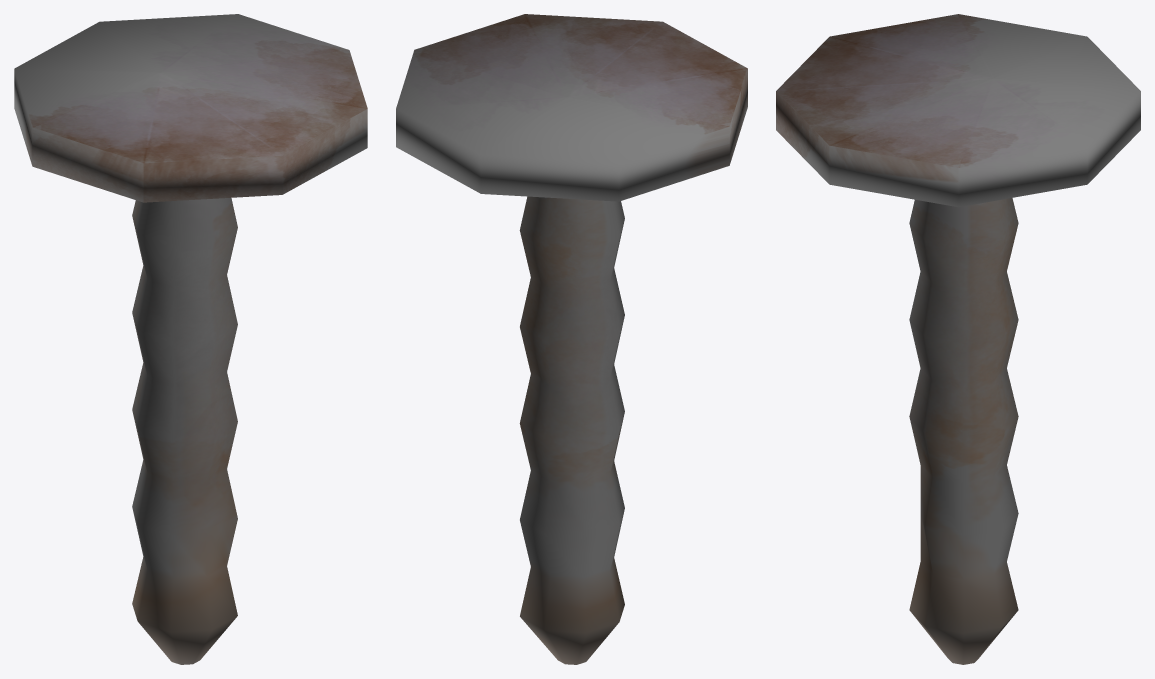
Rendered from Schraube_ Collectible .fbx.
3 renders of one model, left to right at view 1: azimuth 30°, elevation 25°; view 2: azimuth 150°, elevation 25°; view 3: azimuth 270°, elevation 25°, orthographic.
Visible parts, largest first — view 1: Cylinder; view 2: Cylinder; view 3: Cylinder.
Part boxes in pixels (x1=…): Cylinder: x1=14, y1=14, x2=367, y2=664; Cylinder: x1=396, y1=14, x2=747, y2=664; Cylinder: x1=776, y1=14, x2=1140, y2=664.
Size of the model in its own units: 9.58 by 16.67 by 9.58.
1 material, 1 textured.
